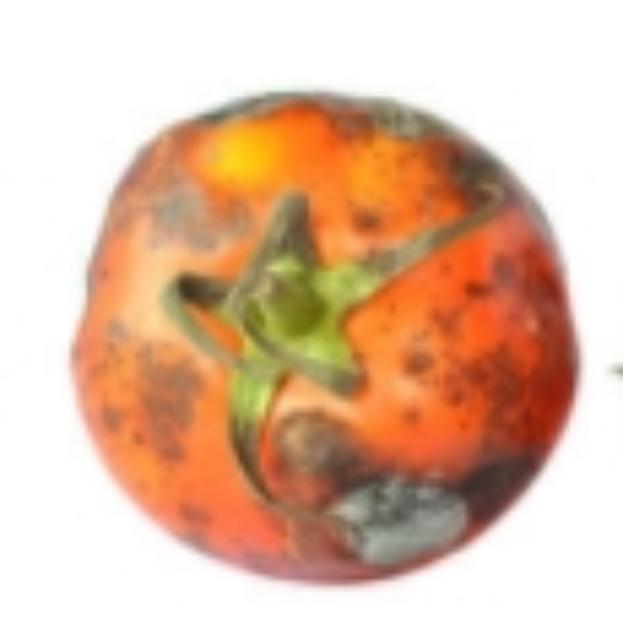defect: (64, 86, 592, 587)
